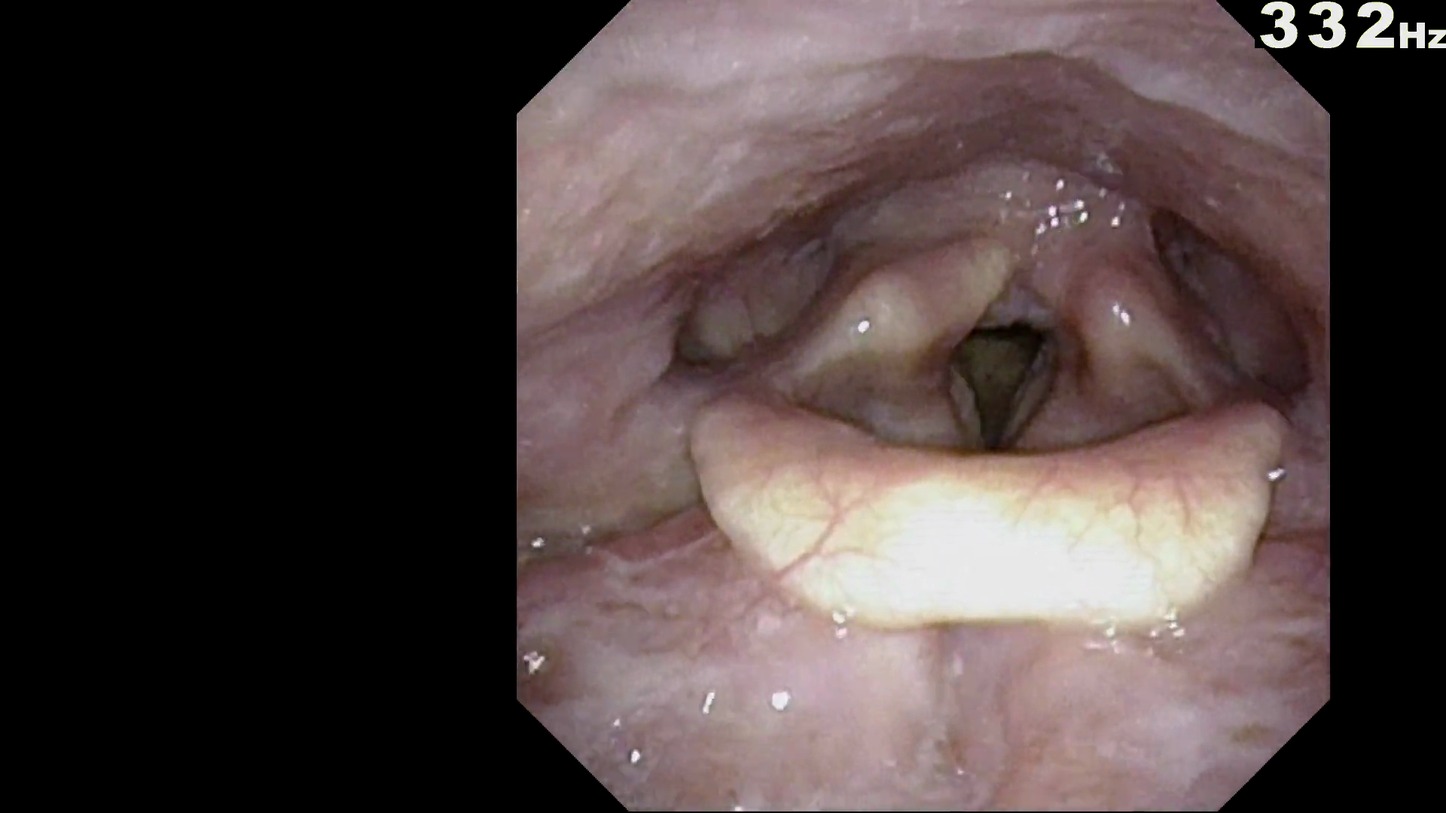epiglottis: (672, 389, 1307, 649)
trachea: (921, 291, 1101, 502)
